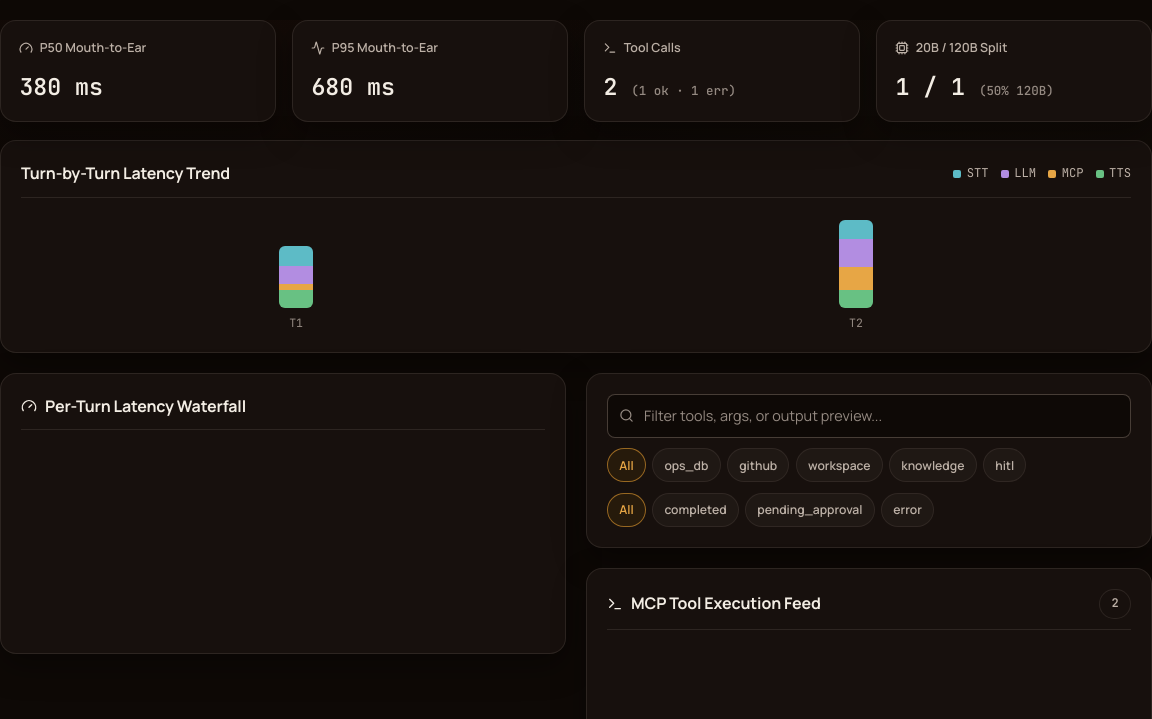
Test: SadaOps Bilingual Cockpit › computes P50/P95 KPIs and filters MCP logs by server, status, and search query in TelemetryView
Expected: the text with test id "kpi-p50" reads "380 ms", x1=19 y1=71 x2=103 y2=102
Expected: the text with test id "kpi-p95" reads "680 ms", x1=311 y1=71 x2=395 y2=102
Filter by github server
Click the button with test id "filter-server-github" at (758, 465), box x1=727 y1=448 x2=790 y2=482
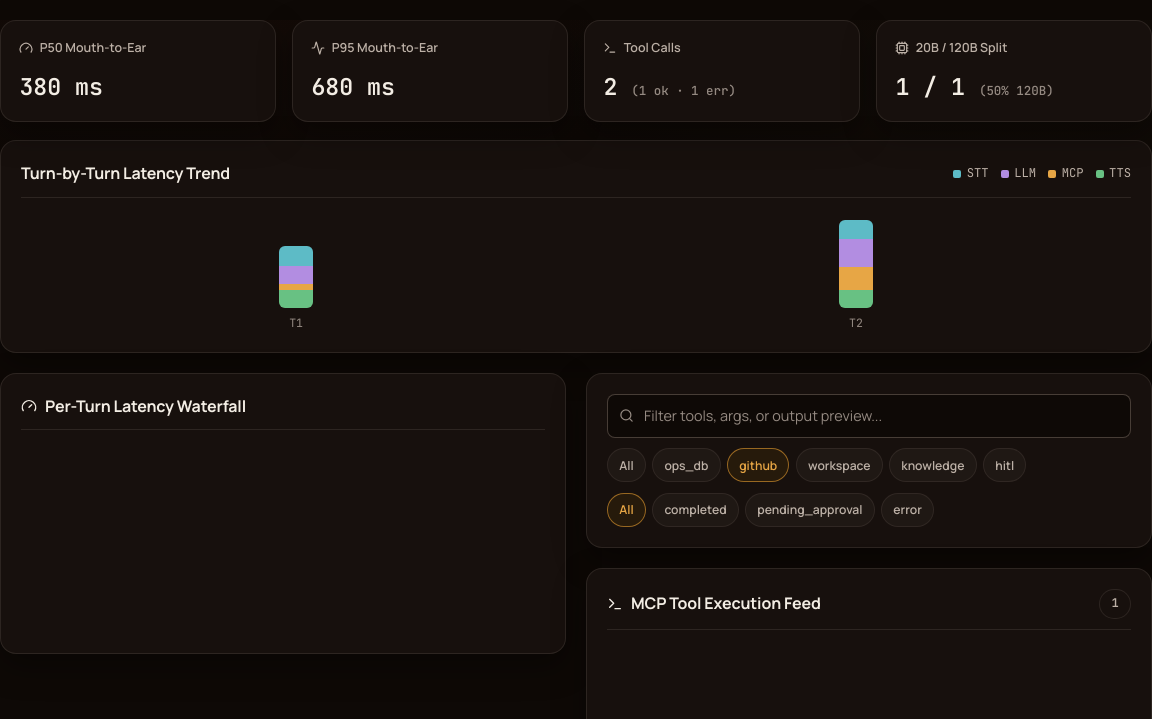
Expected: the text "get_recent_incidents" is not shown
Search query narrows further
Click the button with test id "filter-server-all" at (626, 465), box x1=607 y1=448 x2=646 y2=482
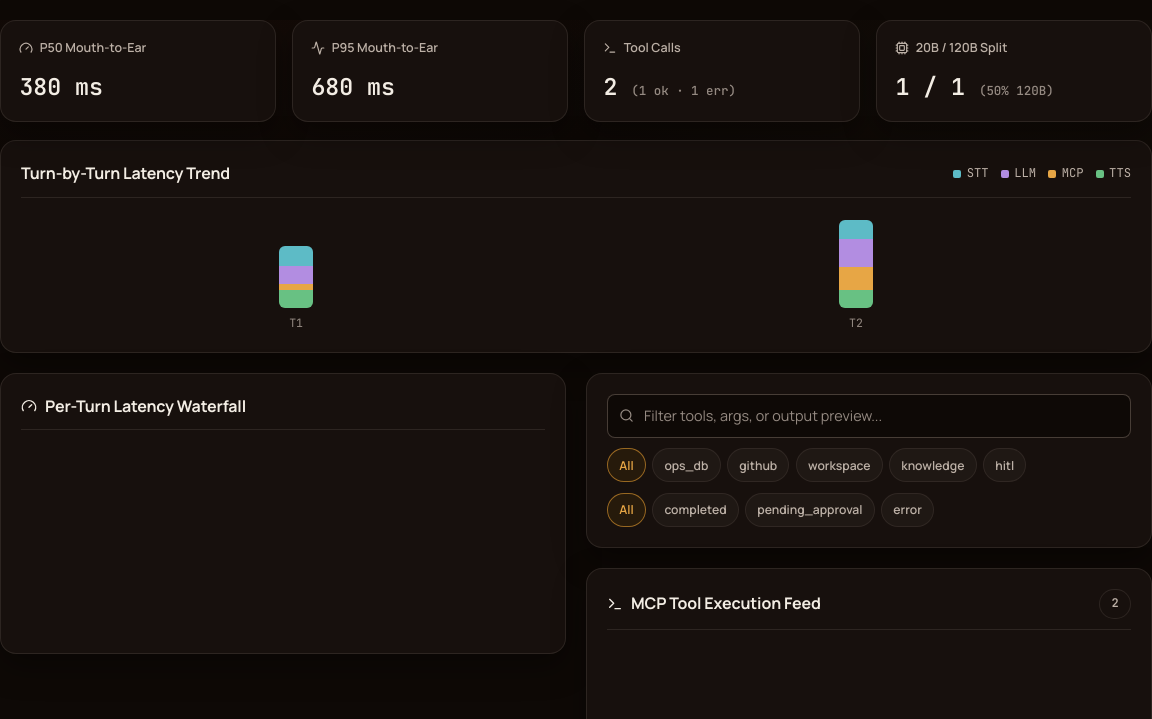
Type "INC-1041" into the search field with test id "mcp-search-input" at (869, 416), box x1=607 y1=394 x2=1131 y2=438
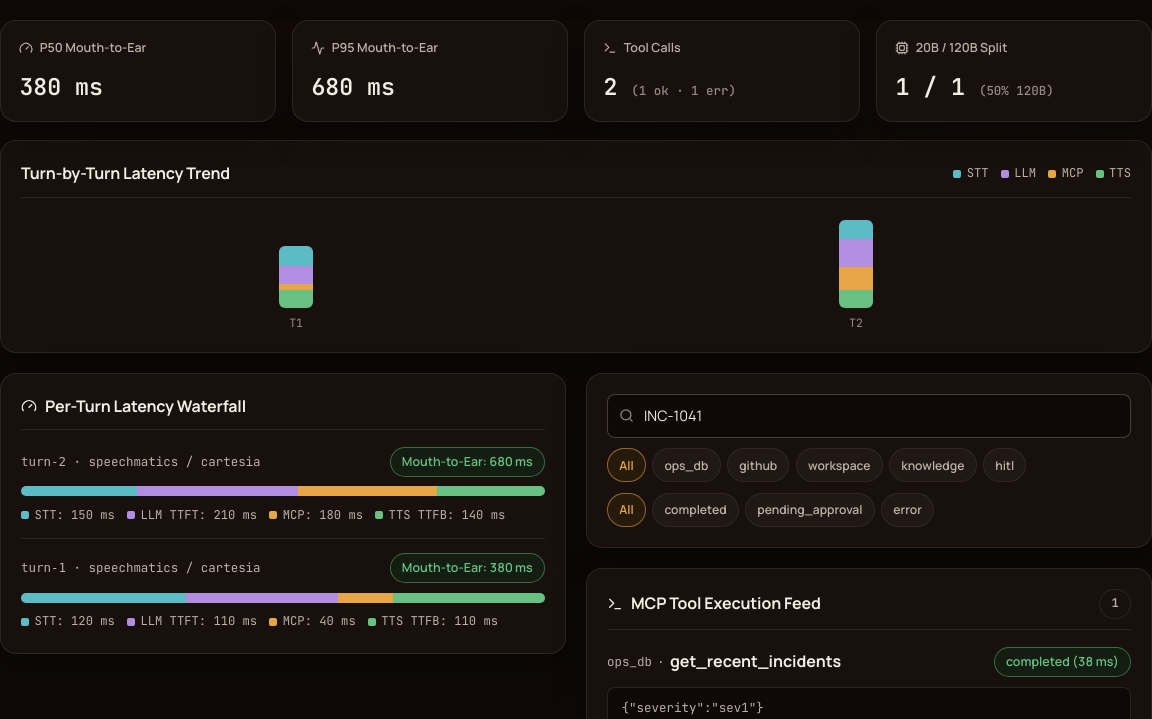
Expected: the text "get_recent_incidents" is shown, x1=670 y1=650 x2=841 y2=674
